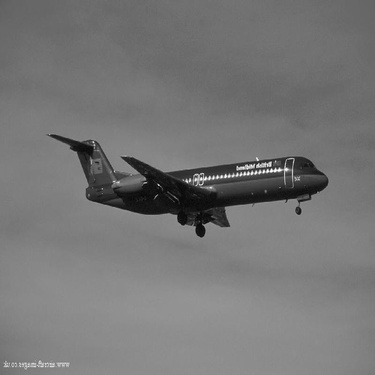airplane: (26, 125, 336, 238)
